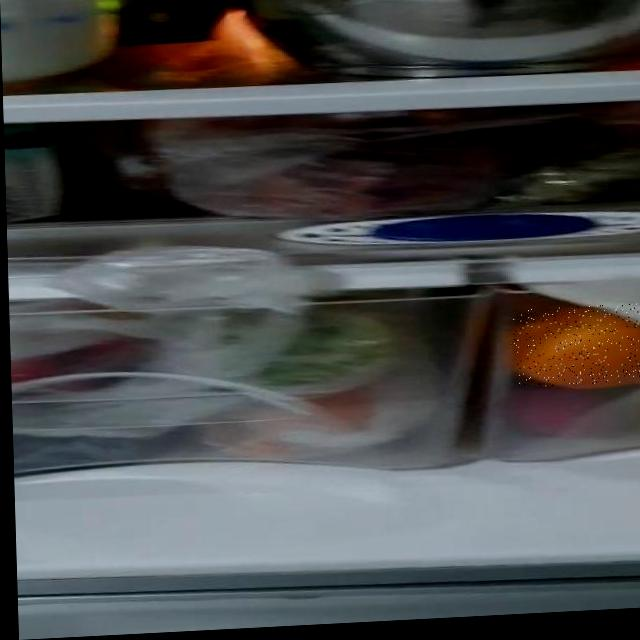orange: (513, 303, 640, 388)
